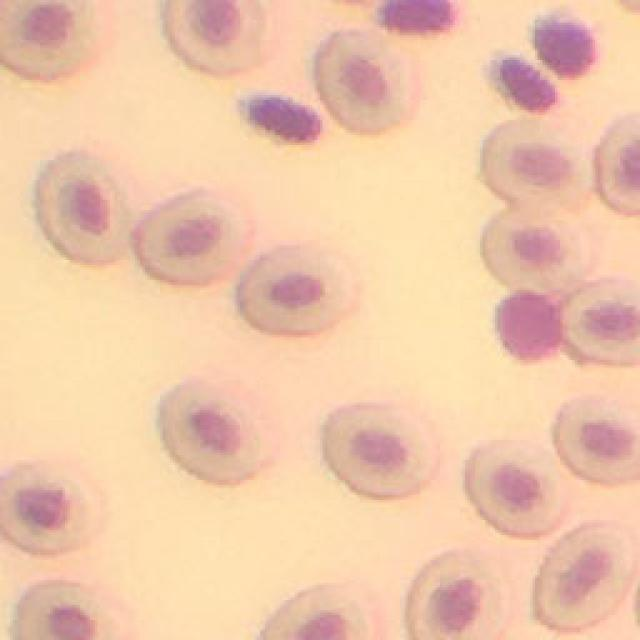RBC: (534, 523, 638, 632), (135, 190, 250, 285), (482, 205, 600, 296), (315, 30, 420, 132), (325, 405, 440, 498), (238, 248, 360, 335), (160, 382, 260, 485), (38, 152, 128, 265), (0, 462, 102, 558), (468, 442, 568, 539), (482, 118, 590, 204), (408, 552, 505, 640), (165, 0, 275, 75), (555, 400, 640, 485), (565, 280, 640, 365), (260, 586, 370, 640), (15, 582, 115, 640), (598, 115, 640, 215)
WBC: (498, 292, 565, 360), (240, 92, 322, 142), (538, 18, 598, 75), (500, 58, 560, 112), (382, 0, 458, 32)
